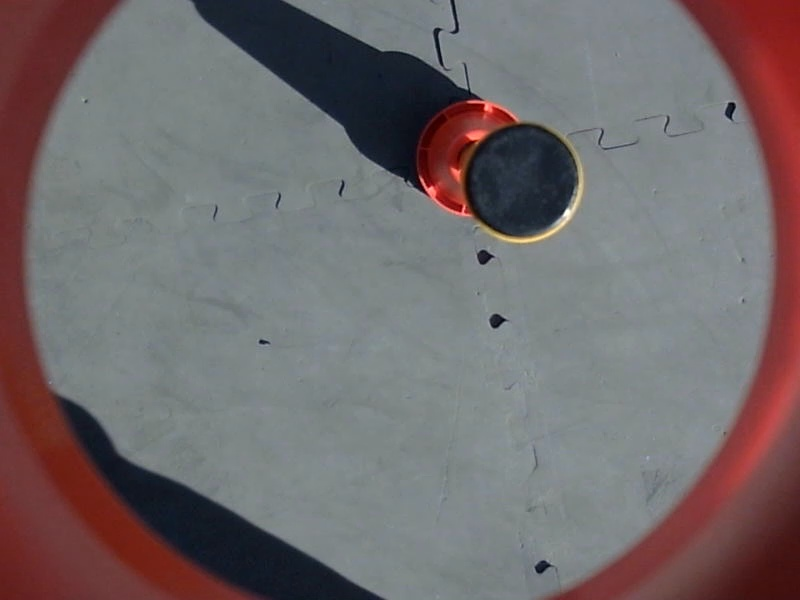tip: (464, 123, 590, 246)
